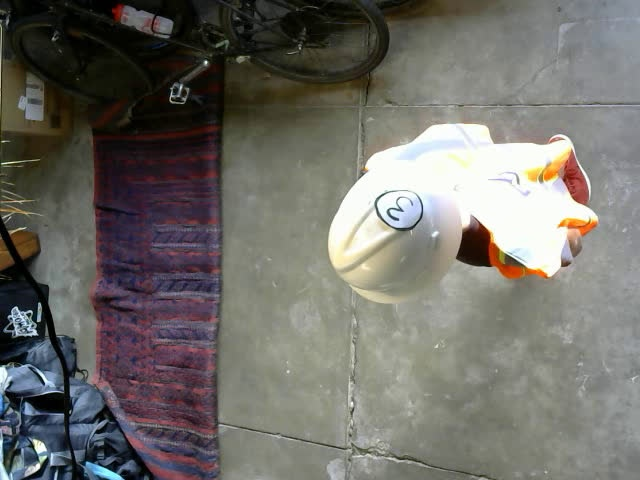three: (373, 188, 421, 230)
